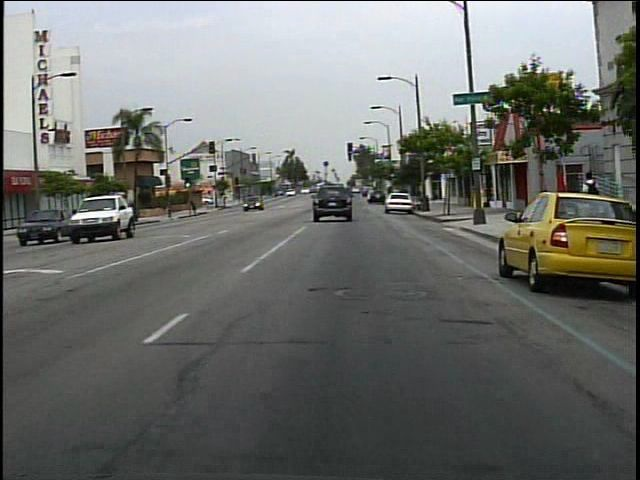person: (577, 165, 605, 212)
